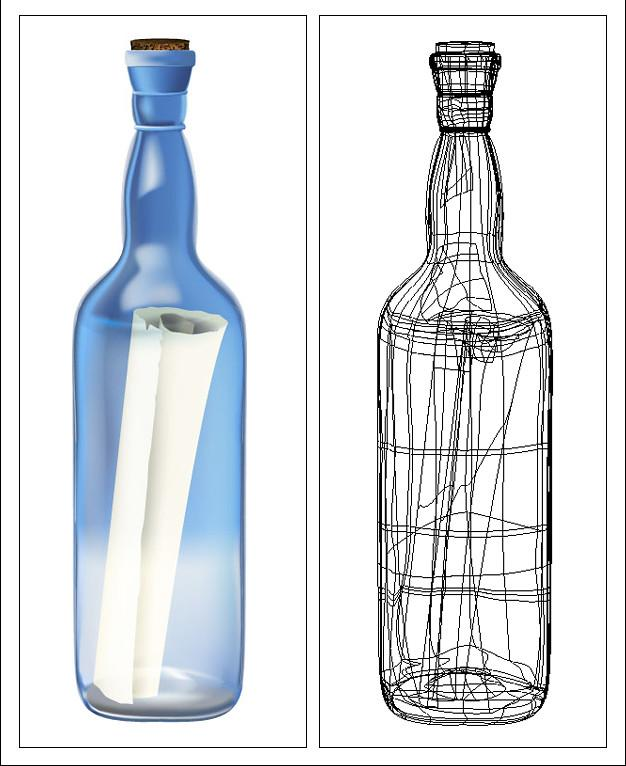bottle: (376, 41, 554, 727), (73, 38, 248, 723)
